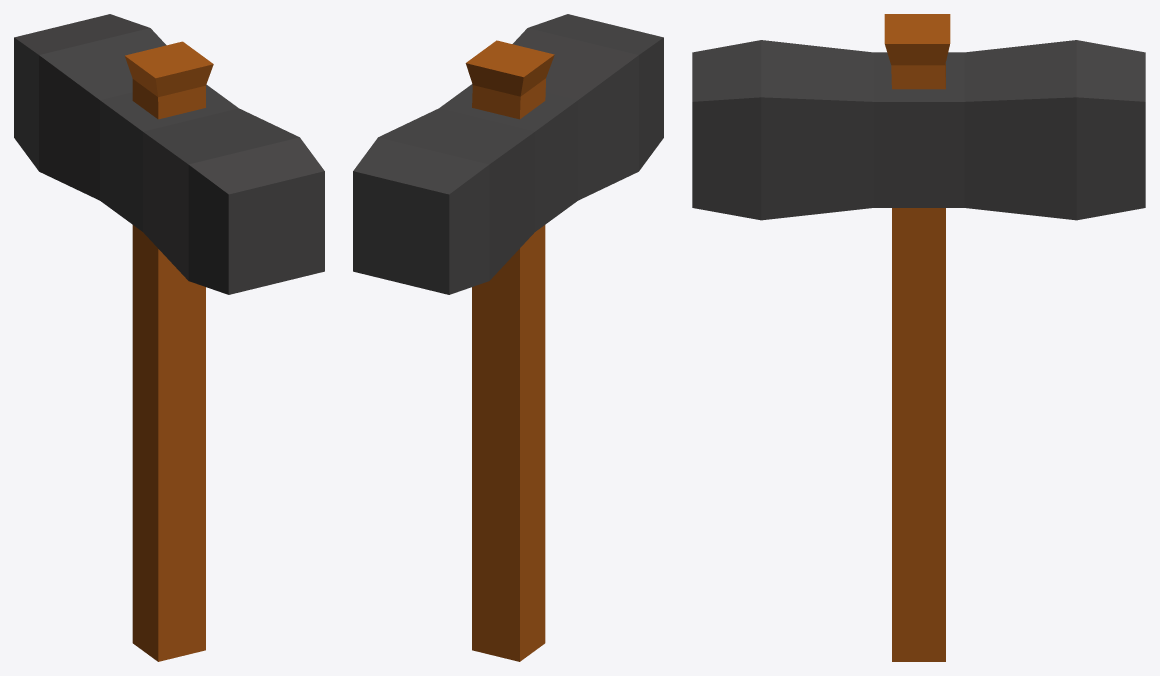
Rendered from Martelo.fbx.
The picture shows the model from 3 angles, left to right: view 1: azimuth 30°, elevation 25°; view 2: azimuth 150°, elevation 25°; view 3: azimuth 270°, elevation 25°; orthographic projection. The views are drawn at different scales.
Visible parts, largest first — view 1: Marreta; view 2: Marreta; view 3: Marreta.
Boxes of the visible parts, x1,y1,x2,y2 form: Marreta: [14, 14, 324, 661]; Marreta: [353, 14, 663, 661]; Marreta: [692, 14, 1145, 661].
Size of the model in its own units: 29.2 by 147 by 97.48.
